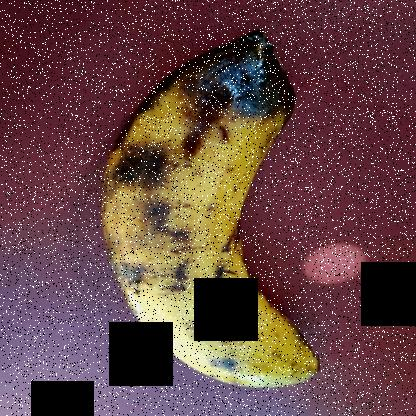overripe: (83, 150, 341, 396)
rotten: (89, 16, 308, 211)
